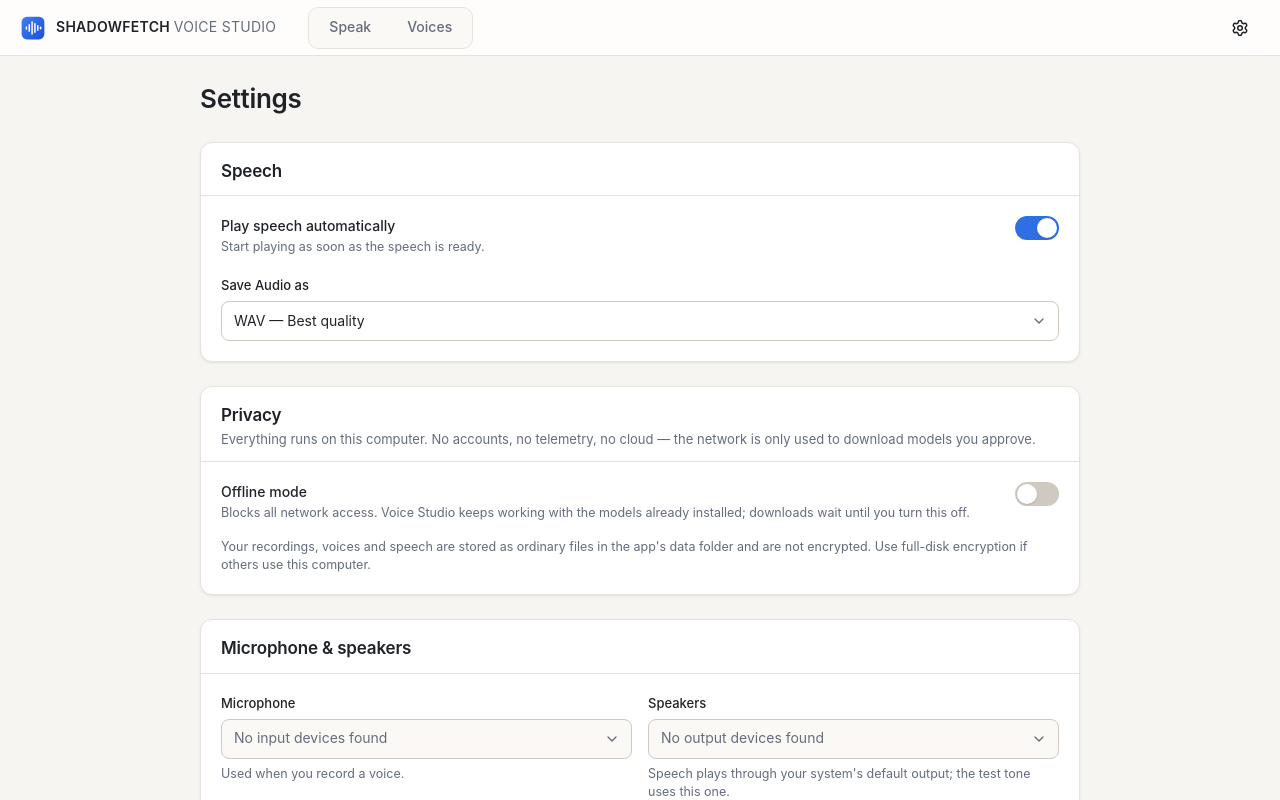
Test: Settings › offline mode goes through the worker (which enforces it) and says what it means
Expected: the heading "Settings" is shown, [200,83,302,114]
Expected: the element "Privacy" shows "No accounts, no telemetry, no cloud", [221,431,1036,447]
Click the switch named "Offline mode" in the row of "Offline mode": click(1037, 494) [1015,482,1059,506]
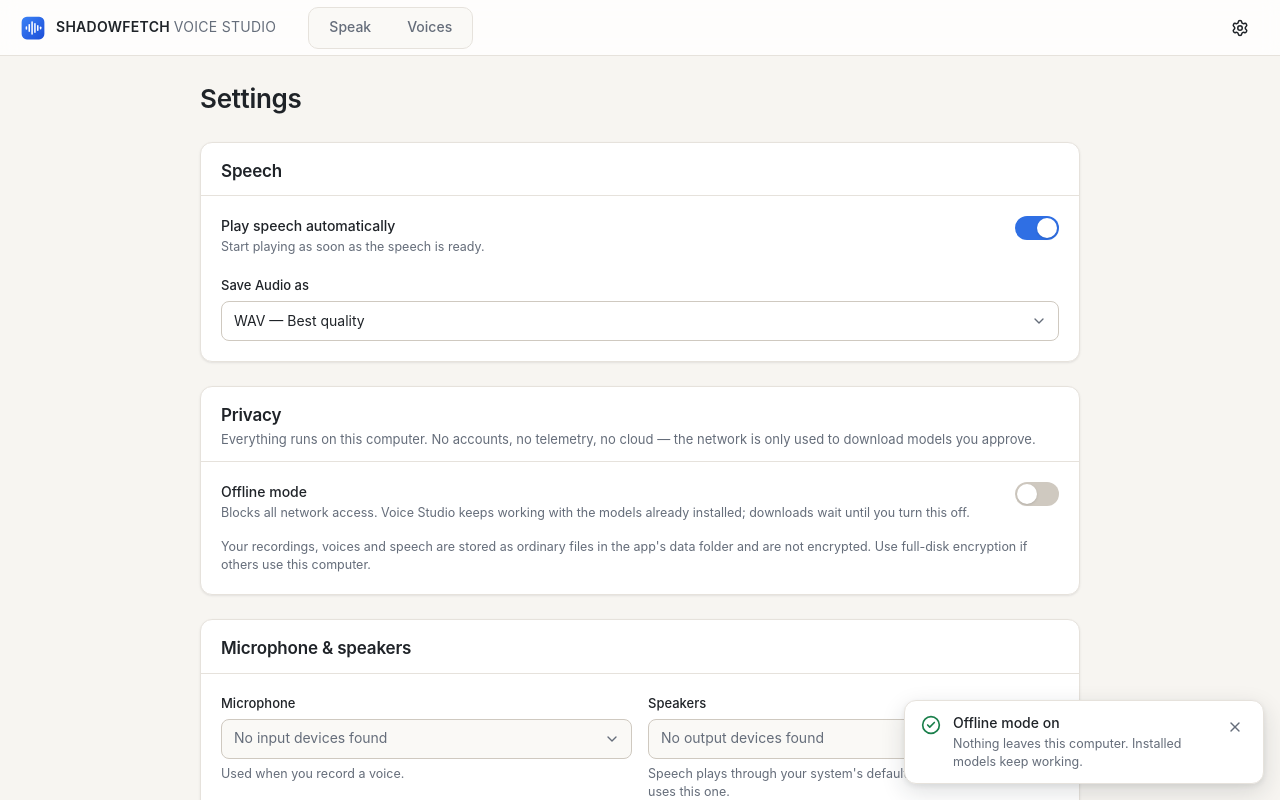
Now the text "Offline mode on" is shown, box [953,714,1060,731]
